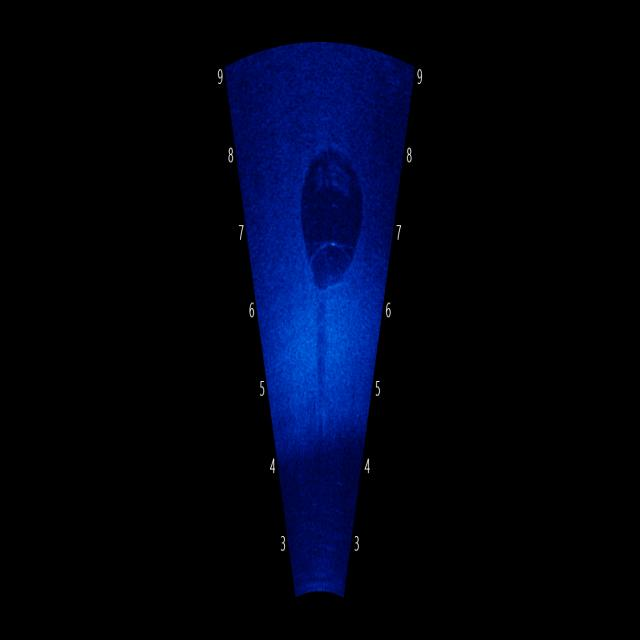circle: (294, 144, 368, 298)
